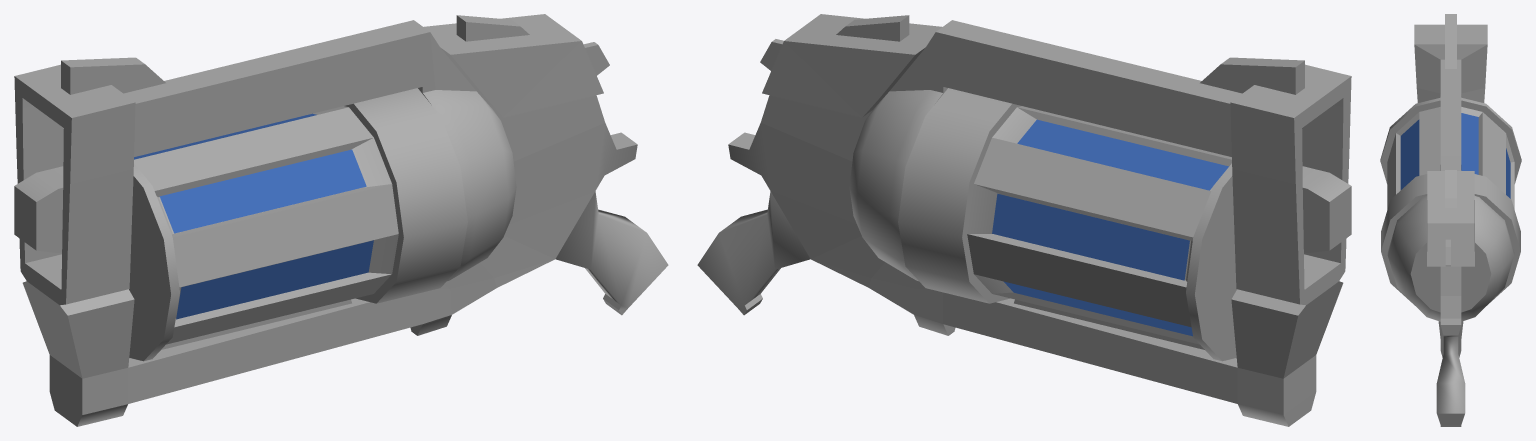
The model's file is rayGun.fbx.
3 views of the same model, side by side, from view 1: azimuth 30°, elevation 25°; view 2: azimuth 150°, elevation 25°; view 3: azimuth 270°, elevation 25° (orthographic). The views are drawn at different scales.
Visible parts, largest first — view 1: rayGun, chamber, charge3, charge4; view 2: rayGun, chamber, charge1, charge2, charge6; view 3: rayGun, chamber, charge3, charge2, charge1.
Part boxes in pixels (<box>): rayGun: <box>14,14,668,426</box>; chamber: <box>129,88,467,361</box>; charge3: <box>159,149,366,233</box>; charge4: <box>176,240,373,319</box>; rayGun: <box>697,14,1351,426</box>; chamber: <box>898,88,1236,361</box>; charge1: <box>992,193,1189,280</box>; charge2: <box>1017,119,1228,190</box>; charge6: <box>1003,281,1192,336</box>; rayGun: <box>1387,14,1514,426</box>; chamber: <box>1380,97,1521,305</box>; charge3: <box>1400,119,1419,189</box>; charge2: <box>1461,113,1478,174</box>; charge1: <box>1506,148,1510,198</box>.
Bounding box in the file's own units: 5.42 × 3.11 × 1.64.
